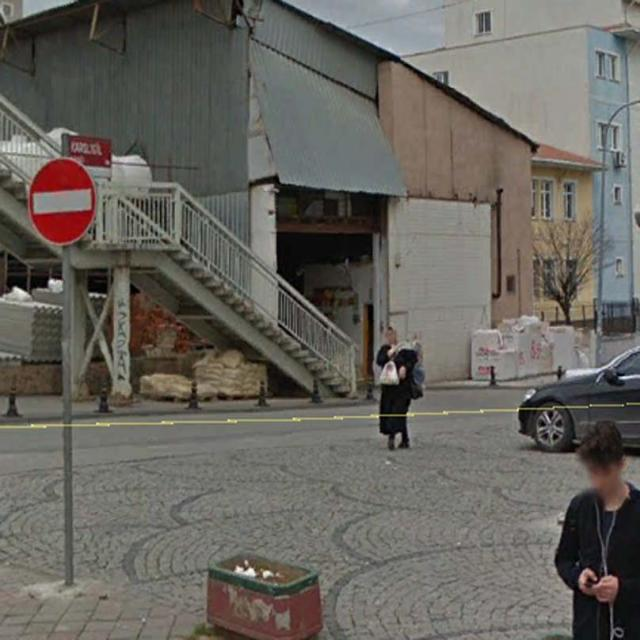girisyok: (28, 158, 96, 245)
